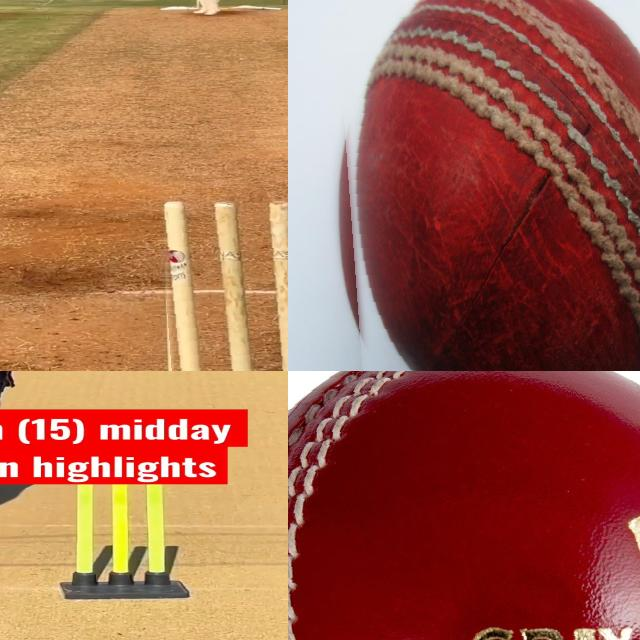Cricket ball: (332, 0, 640, 371), (288, 371, 640, 640)
Stumps: (159, 199, 288, 371), (60, 482, 183, 599)
